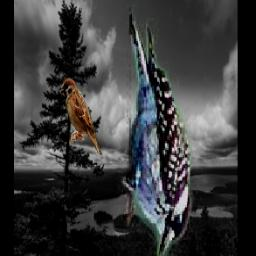Sparrow: (60, 77, 101, 155)
Woodpecker: (106, 0, 201, 256)
